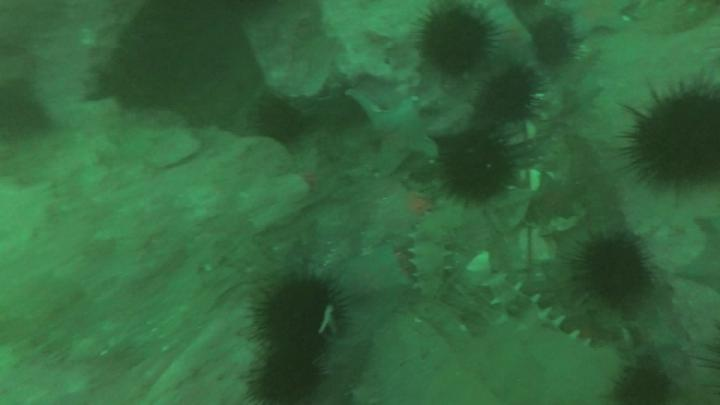echinus: (636, 93, 720, 181), (260, 279, 338, 350), (580, 239, 652, 305), (424, 6, 491, 71), (442, 137, 510, 201), (257, 350, 319, 405), (486, 71, 539, 123), (257, 100, 303, 146), (531, 17, 568, 62)
holothurian: (481, 274, 587, 343), (414, 209, 458, 298)
starfish: (347, 91, 438, 174), (549, 1, 630, 37)
